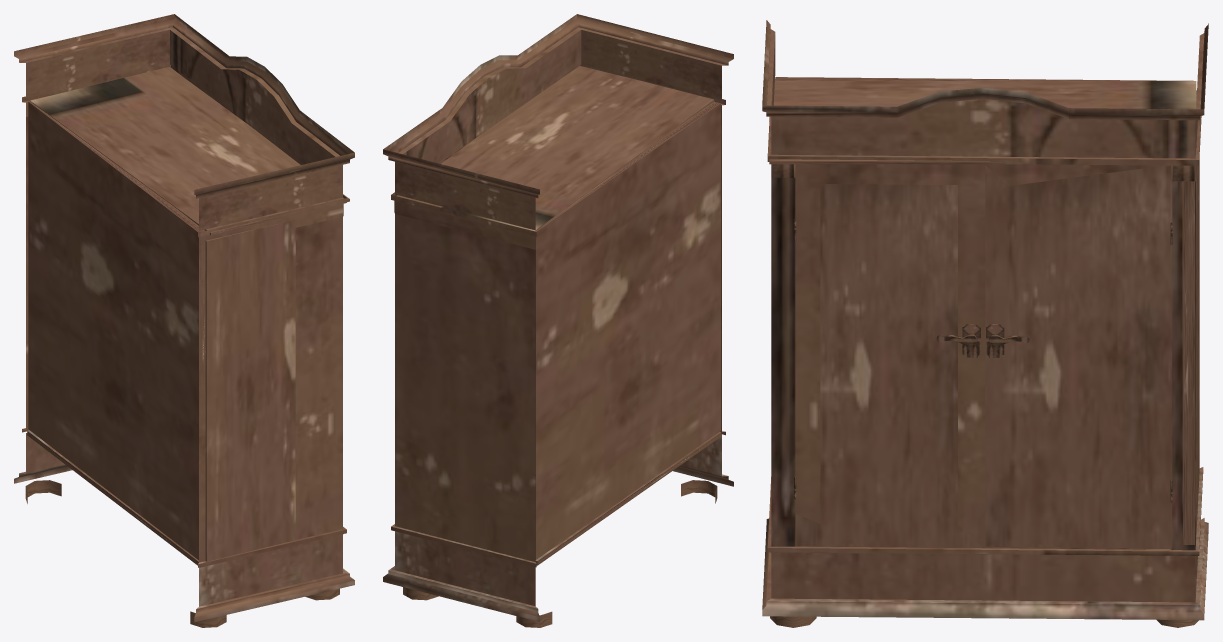
The model's file is ARMARIO.fbx.
3 views of the same model, side by side, from view 1: azimuth 30°, elevation 25°; view 2: azimuth 150°, elevation 25°; view 3: azimuth 270°, elevation 25° (orthographic). The views are drawn at different scales.
Visible parts, largest first — view 1: QUARTO_B_ARMARIO; view 2: QUARTO_B_ARMARIO; view 3: QUARTO_B_ARMARIO, QUARTO_B_ARMARIO_PORTA2.001, QUARTO_B_ARMARIO_PORTA1.001.
Boxes of the visible parts, x1,y1,x2,y2 form: QUARTO_B_ARMARIO: (14,14,354,627); QUARTO_B_ARMARIO: (383,14,733,627); QUARTO_B_ARMARIO: (762,20,1208,627); QUARTO_B_ARMARIO_PORTA2.001: (983,164,1172,549); QUARTO_B_ARMARIO_PORTA1.001: (794,164,983,548).
Bounding box in the file's own units: 7842 × 20877 × 15519.
